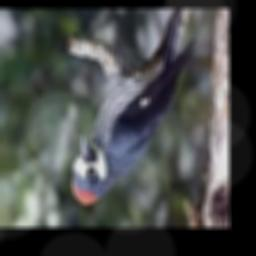Woodpecker: (73, 9, 197, 208)
